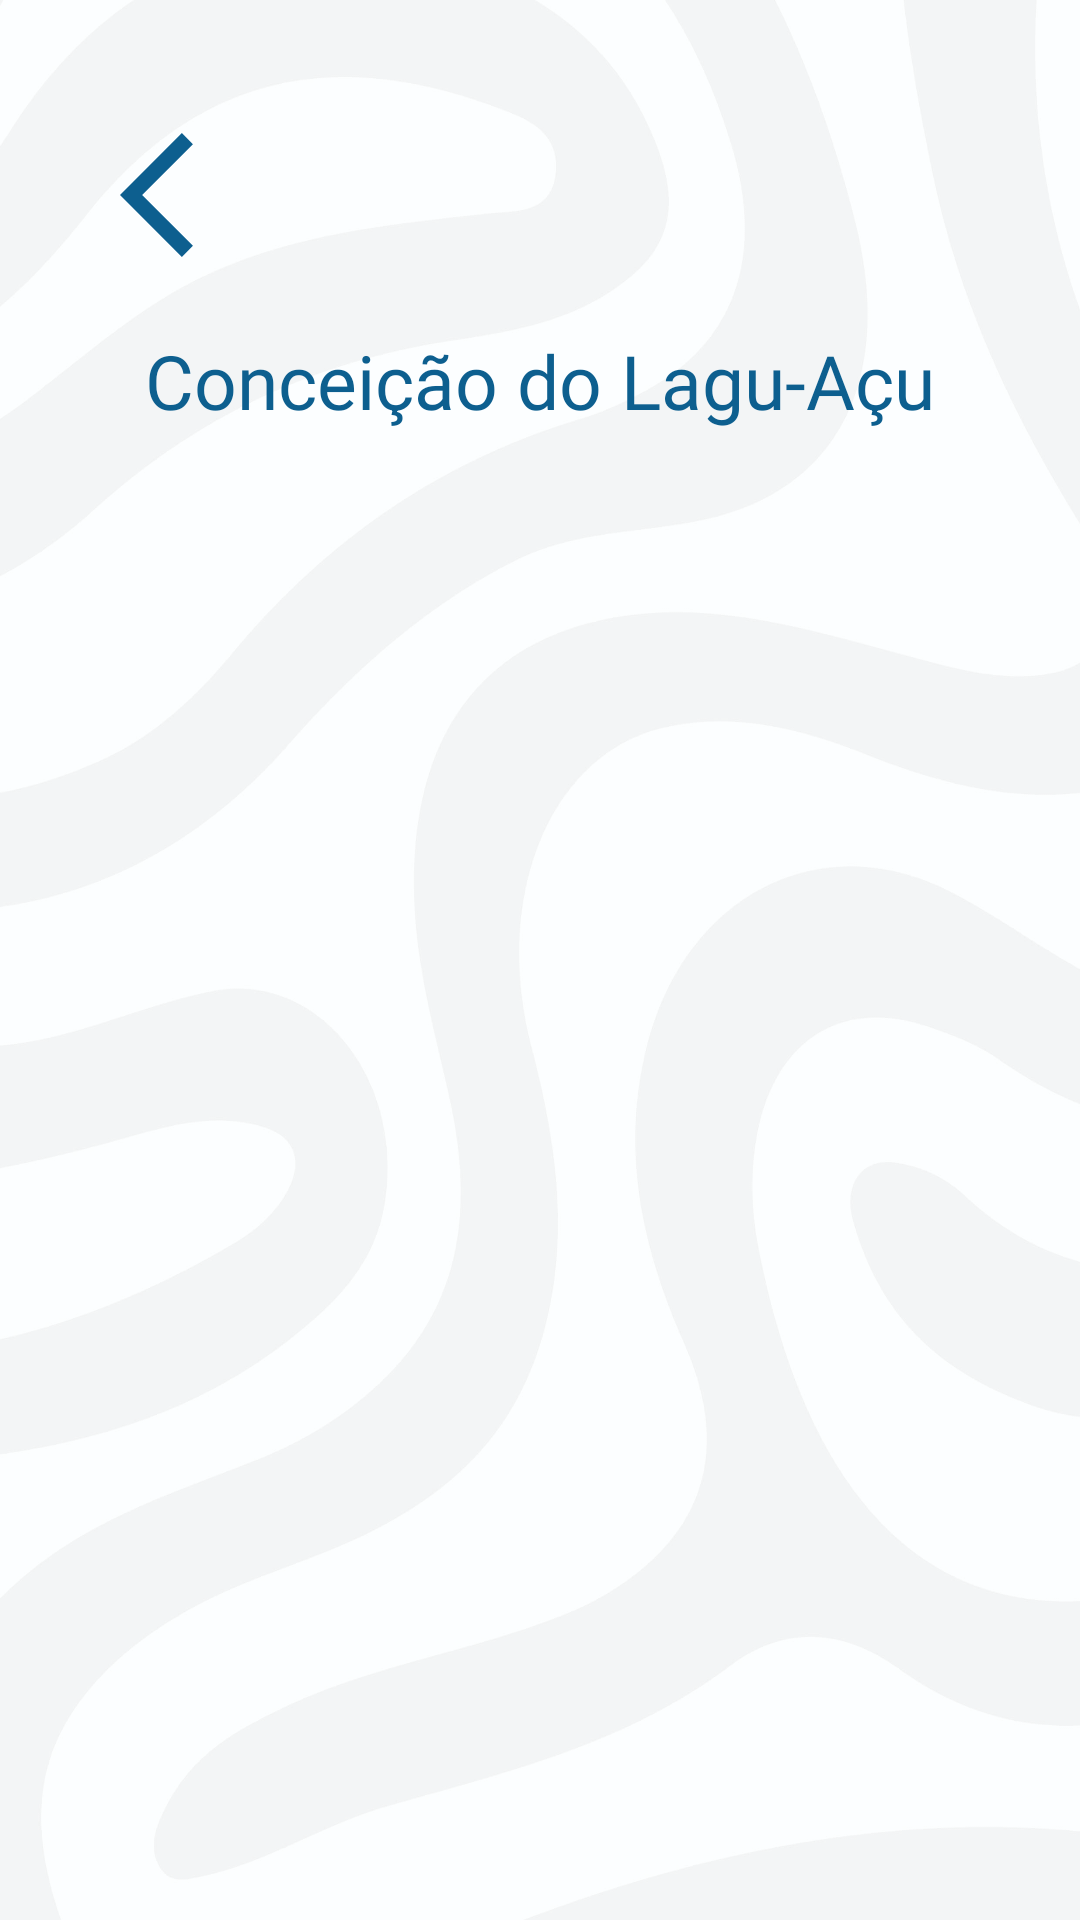

Where to tap for icons on this 1080 x 1920 app screen, as (x,y):
voltar: (156,195)
